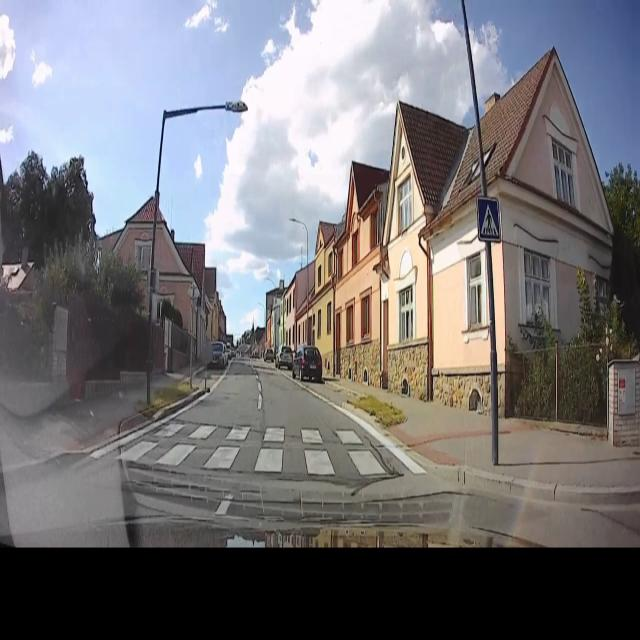Pedestrian crosswalk: (92, 409, 394, 481), (475, 191, 502, 245)
